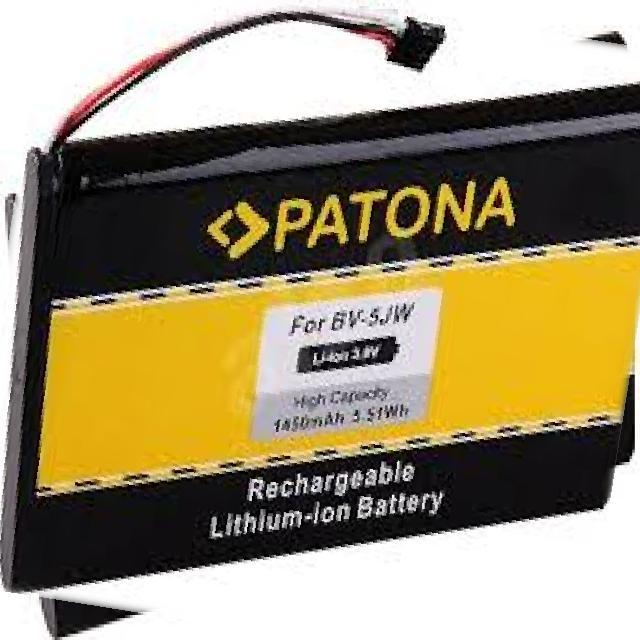Battery: (0, 5, 639, 601)
